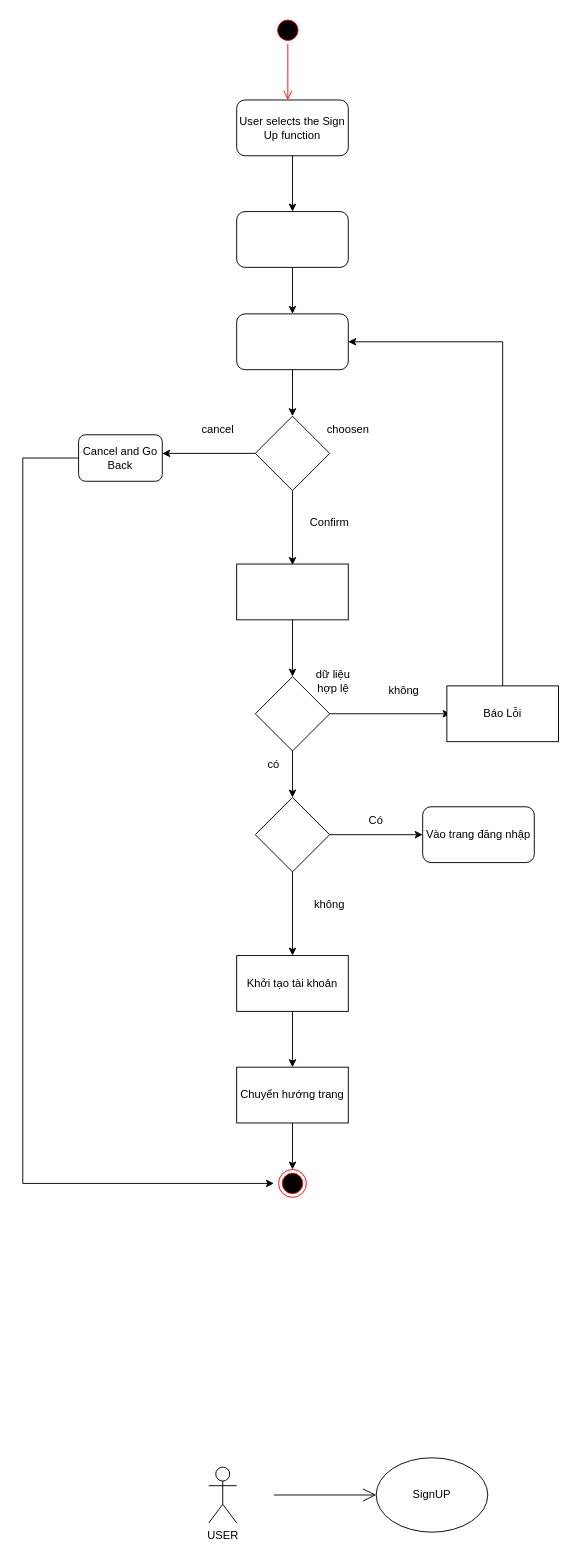
The diagram is 575 pixels wide and 1559 high, and some of its shapes have lost their labels. The centre of each missing label's shape, as x and y in pixels:
Enter Information: [292,341]
KT Thông Tin: [292,591]
The system displays the sign-up form: [292,239]
Tài khoản tồn tại hay không: [292,834]
